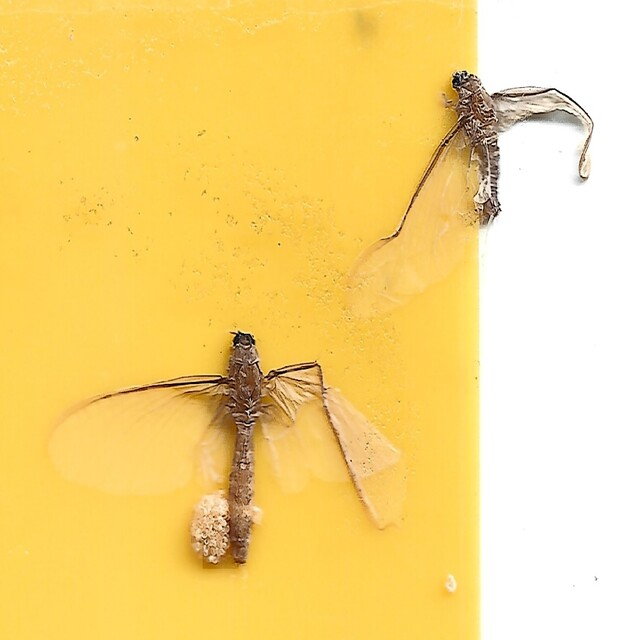Ephemeroptera: (45, 323, 410, 574), (356, 66, 595, 300)
